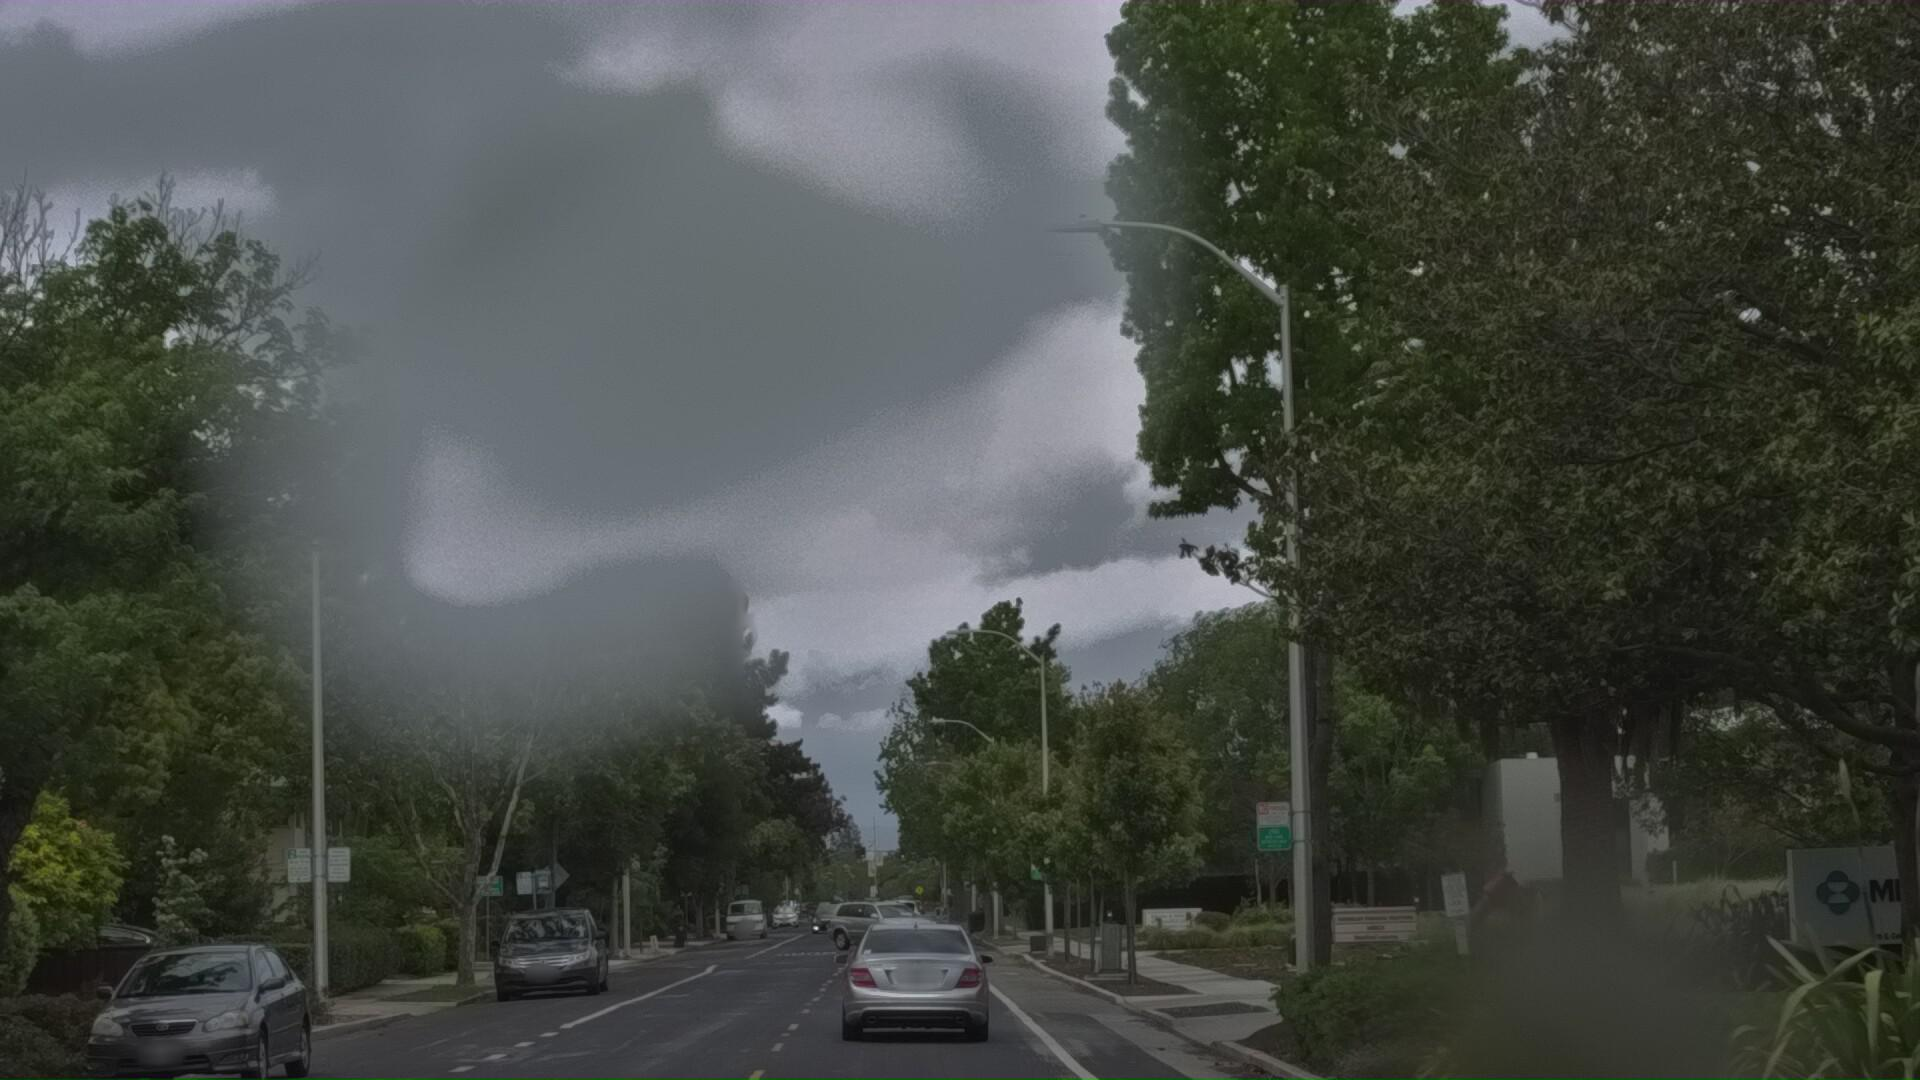car: (87, 955, 336, 1080), (831, 938, 994, 1080), (508, 922, 632, 1022)
